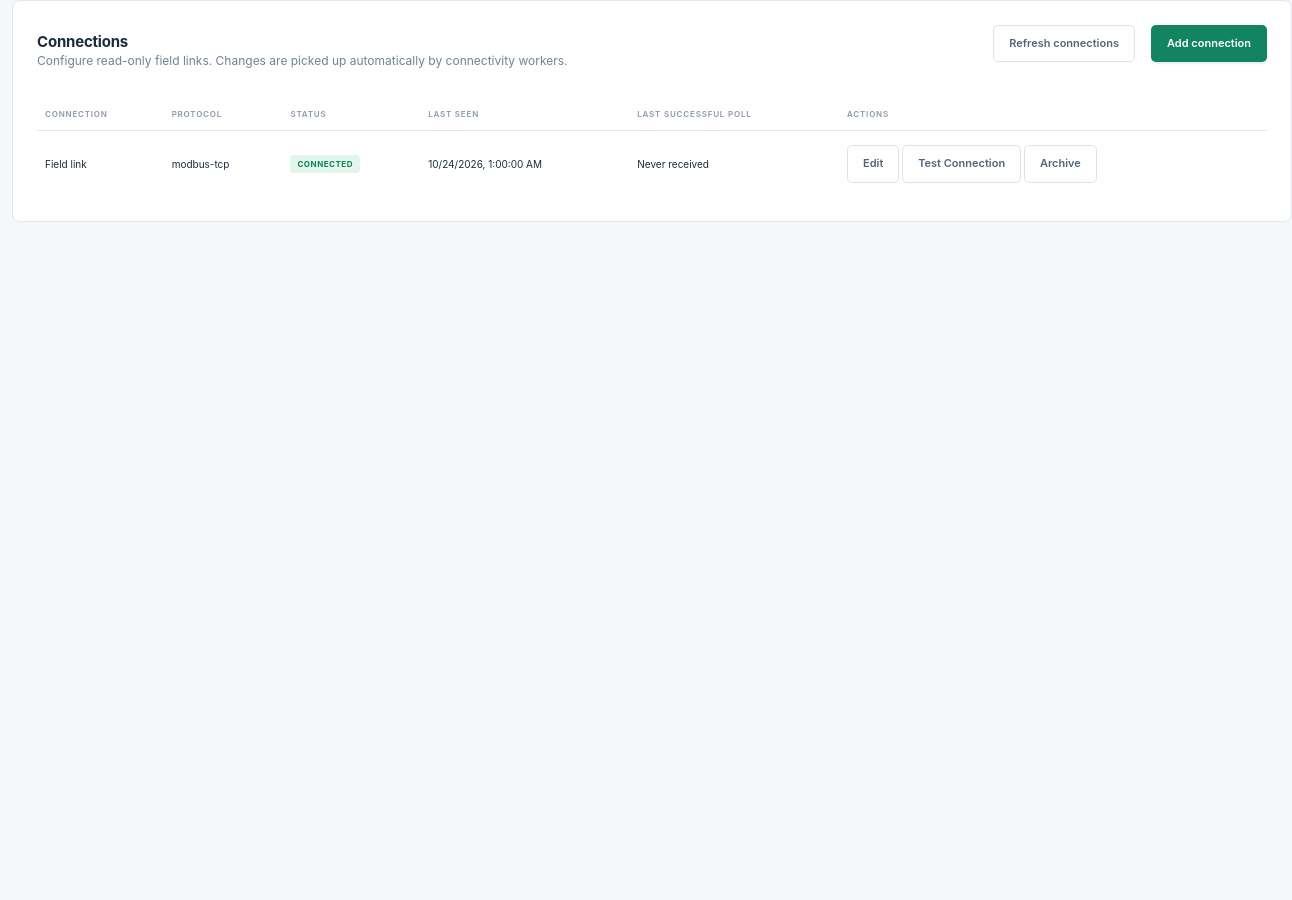
it: shows diagnostic results and server validation failures
Click the button with aria-label "Test Field link".
click(962, 164)  # box [902, 145, 1021, 183]
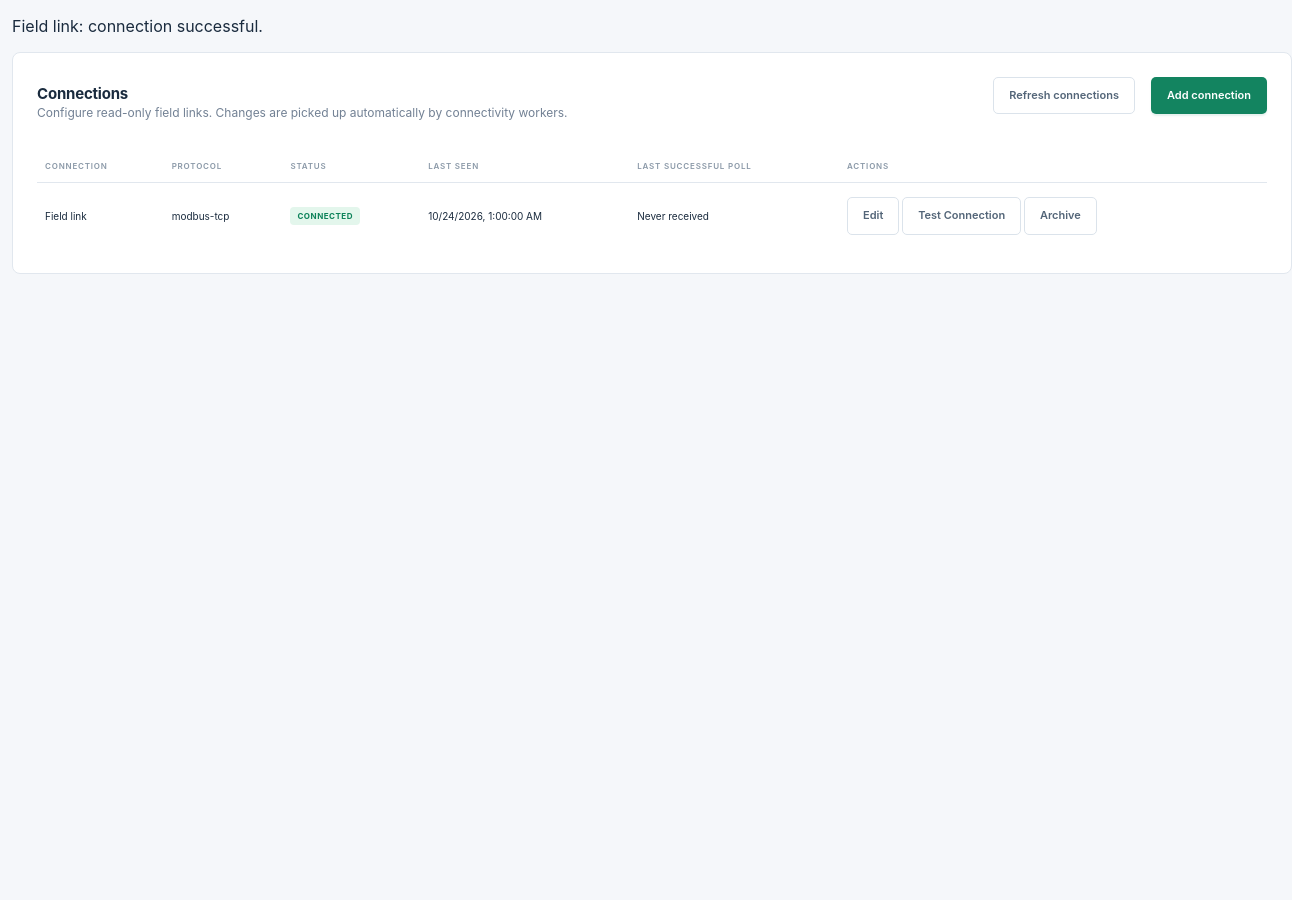
Check: the text "Field link: connection successful." is shown, box [12, 16, 263, 36]
Click the button with aria-label "Edit Field link".
click(873, 216)  # box [847, 197, 899, 235]
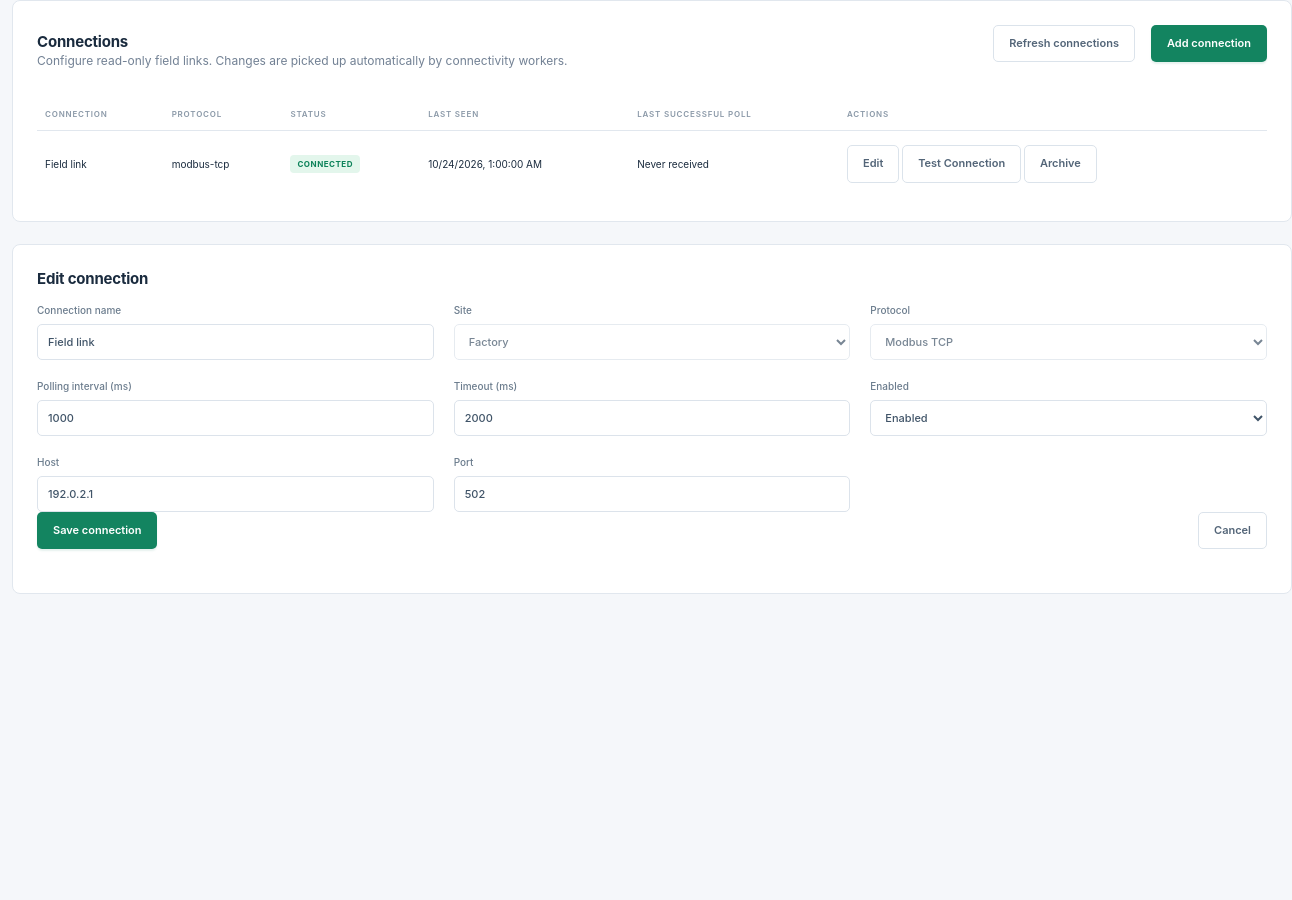
Click the button "Save connection".
click(97, 530)  # box [37, 512, 158, 549]
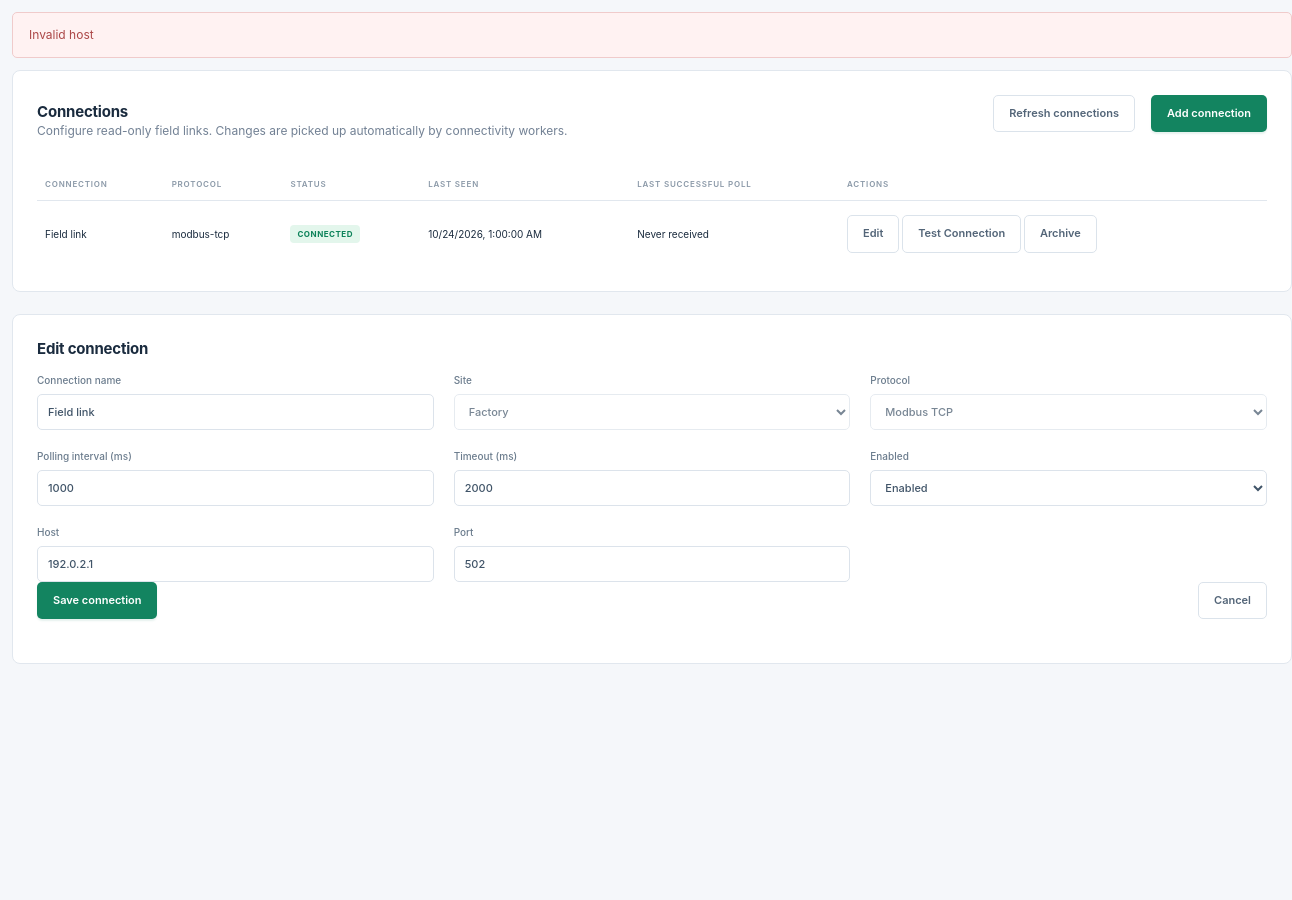
Check: the button "Save connection" is shown, box [37, 582, 158, 619]
Check: the message reads "Invalid host", box [29, 27, 94, 42]
